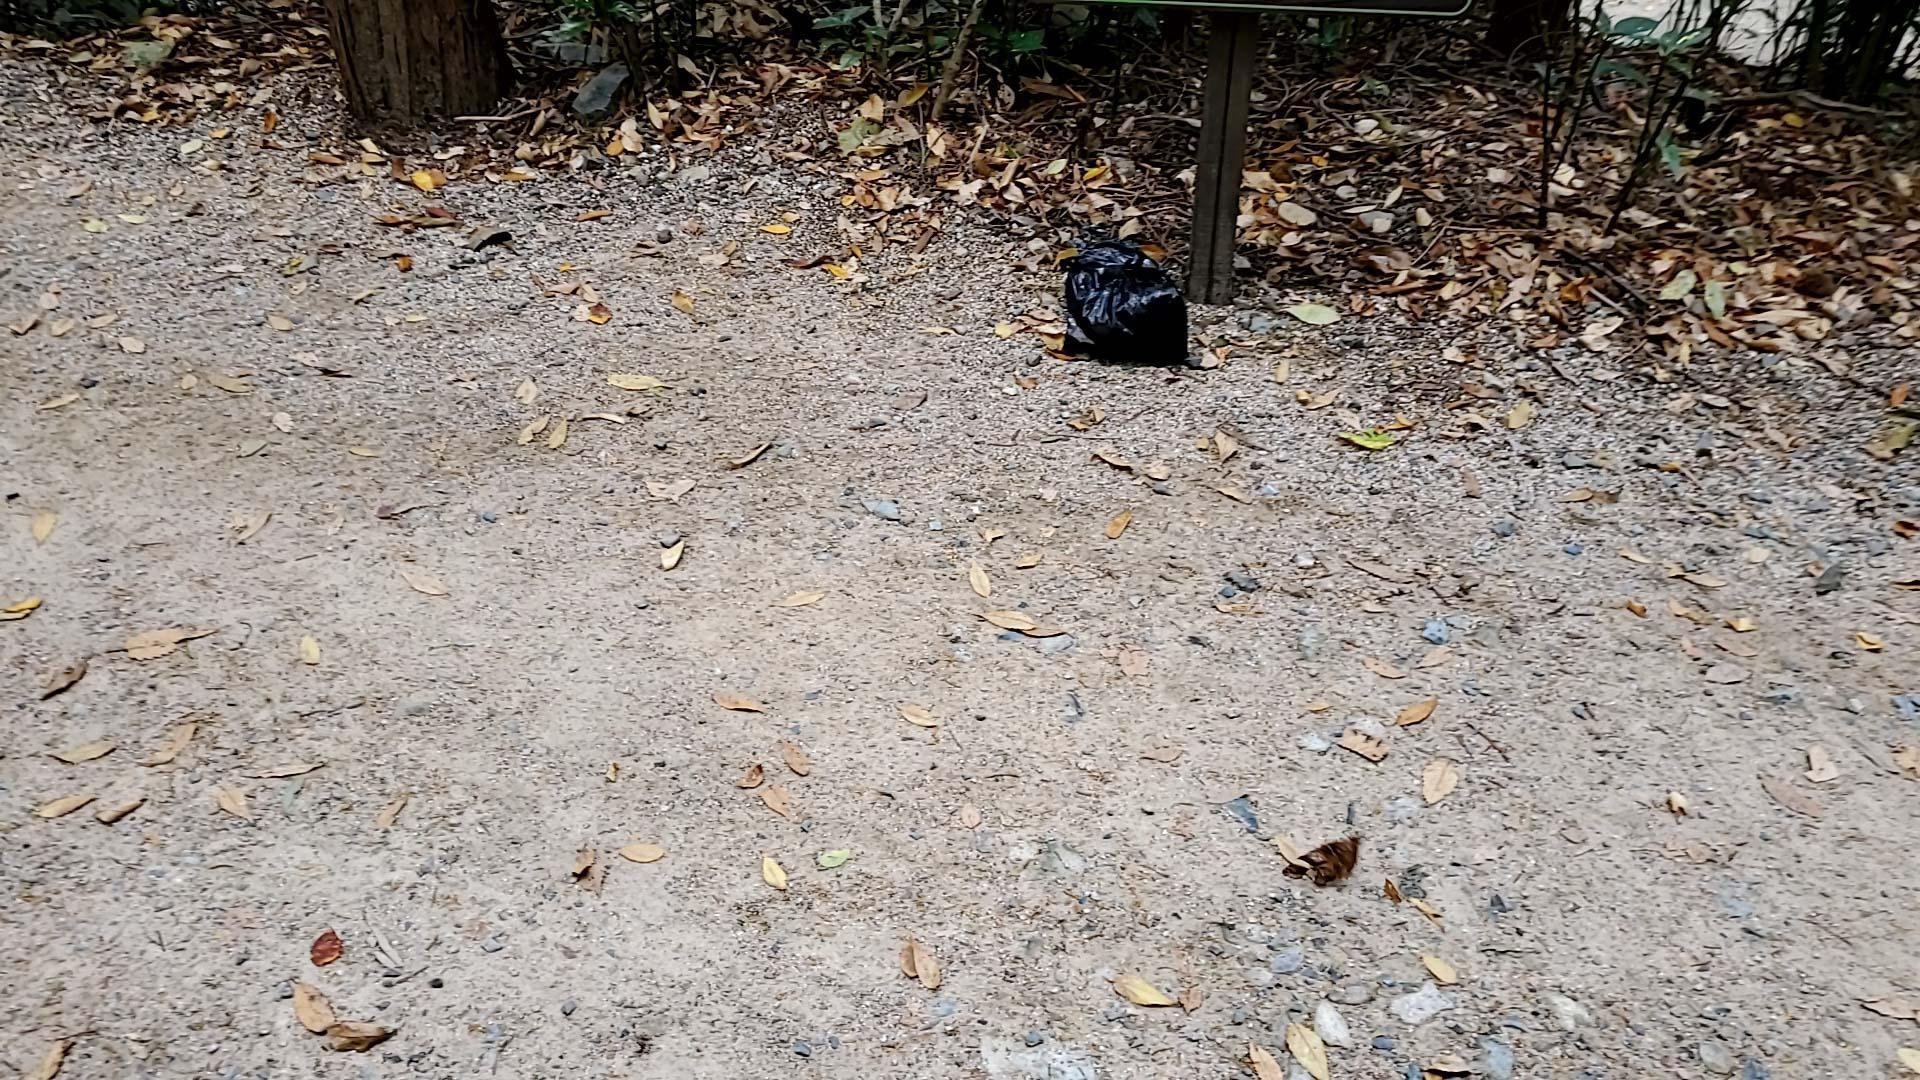black_bag: (1036, 237, 1220, 375)
